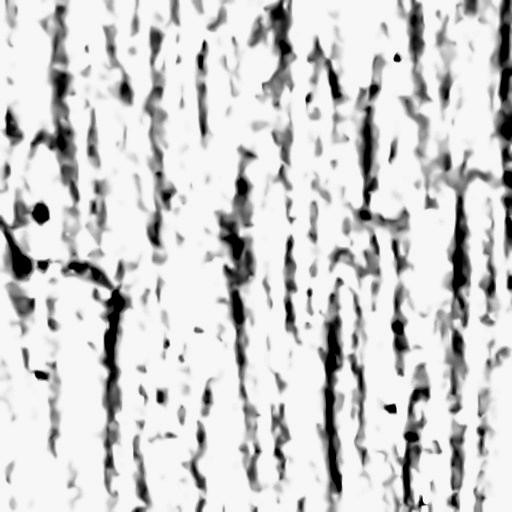egg: (13, 247, 30, 272), (33, 202, 48, 222)
